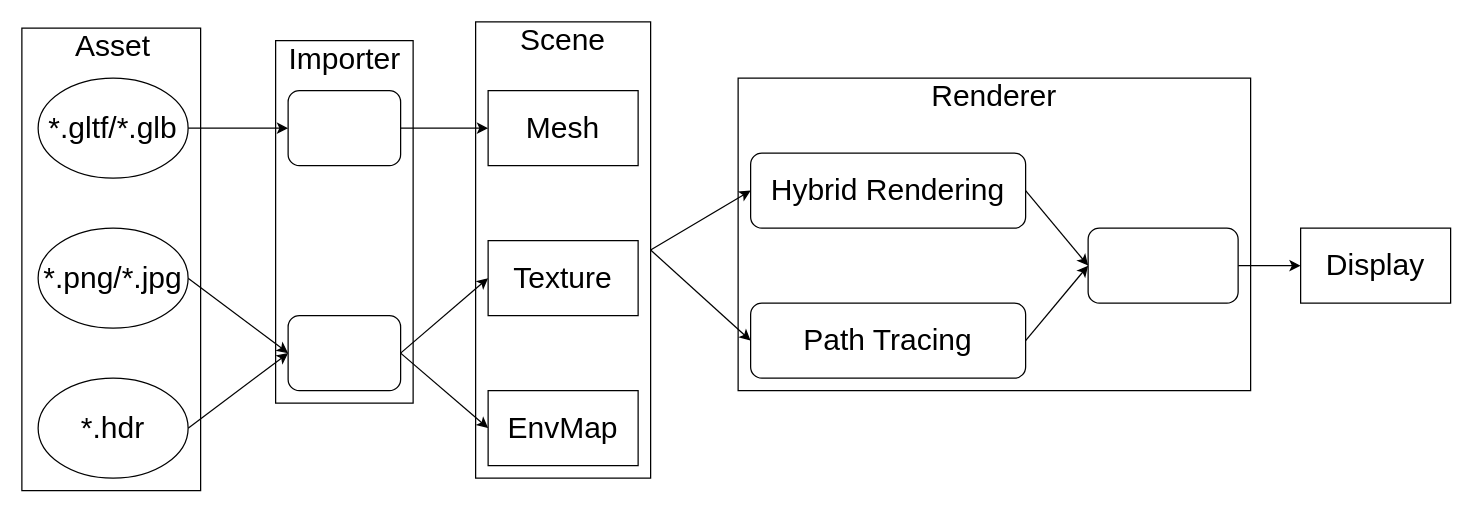
Image size: 1473x513. Some labels were removed from this diagram. The shapes that lost their labels are listed below. From the top down, each one's centre as x and y in pixels, then its label:
point 344,127: cgltf
point 1162,265: UI
point 344,352: STB
